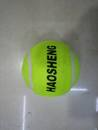tennis ball: (21, 39, 81, 98)
